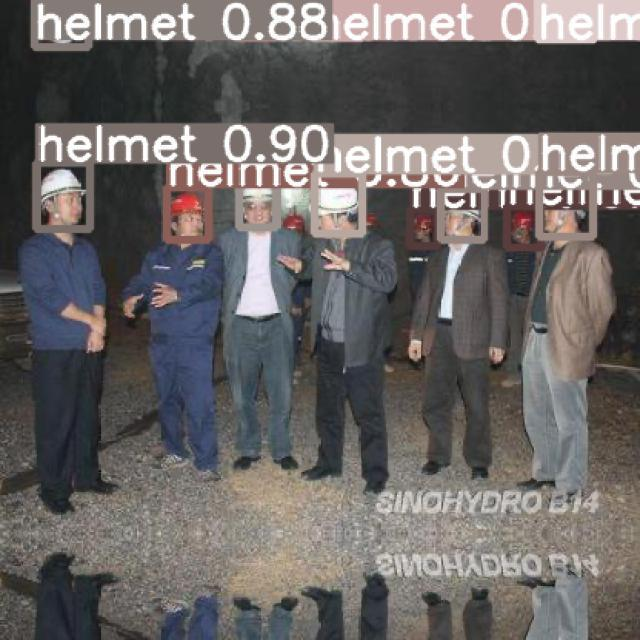red helmet: (438, 190, 489, 223), (172, 188, 210, 230), (504, 209, 539, 241), (412, 210, 435, 242), (283, 215, 309, 238)
white helmet: (41, 167, 90, 215), (313, 181, 364, 219), (237, 180, 278, 215)
